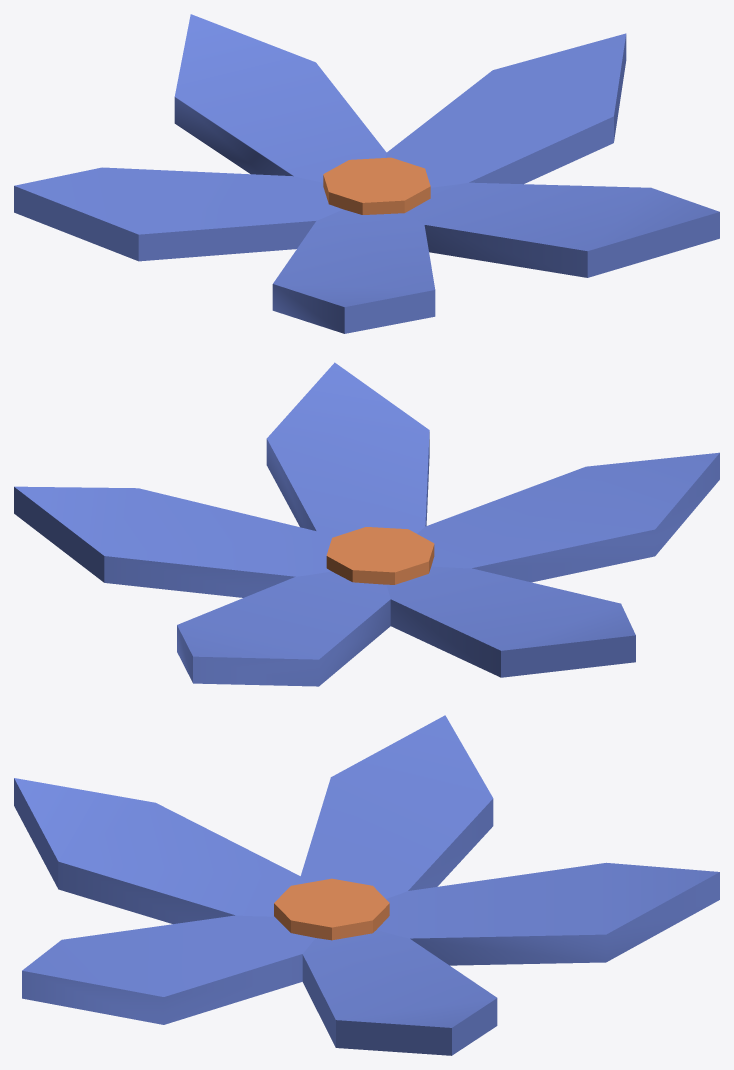
Rendered from Flower_Blue_2.fbx.
3 views of the same model, one above another, from view 1: azimuth 30°, elevation 25°; view 2: azimuth 150°, elevation 25°; view 3: azimuth 270°, elevation 25° (orthographic). The views are drawn at different scales.
Parts seen in each view (by area): view 1: Cube.078, Cylinder.606; view 2: Cube.078, Cylinder.606; view 3: Cube.078, Cylinder.606.
Part boxes in pixels (x1,y1,x2,y2): Cube.078: [14, 14, 719, 333]; Cylinder.606: [323, 157, 430, 214]; Cube.078: [14, 362, 719, 686]; Cylinder.606: [326, 527, 434, 584]; Cube.078: [14, 715, 719, 1055]; Cylinder.606: [274, 878, 389, 940].
Bounding box in the file's own units: 71.56 × 7.88 × 68.25.
